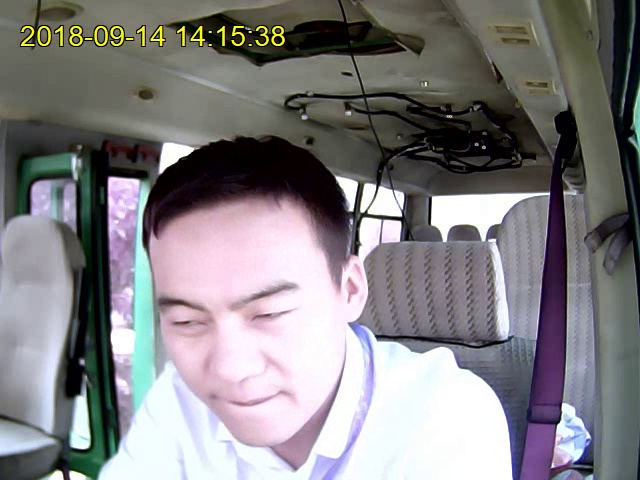closed_mouth: (213, 389, 291, 416)
